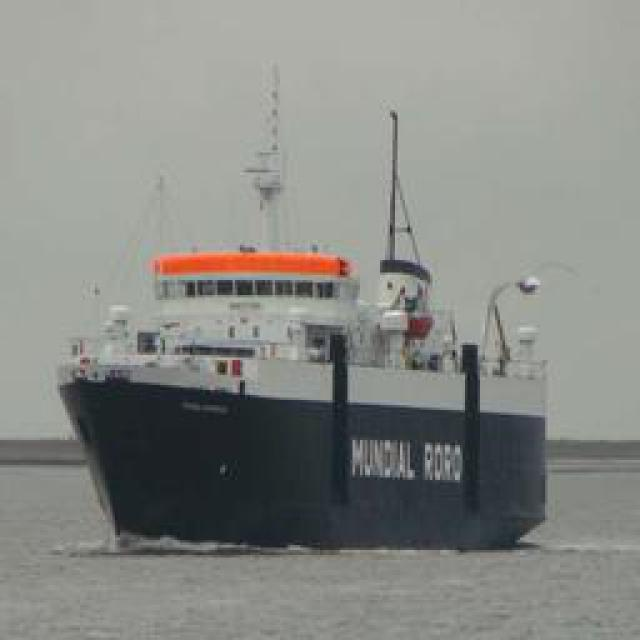Ship: (55, 230, 543, 553)
